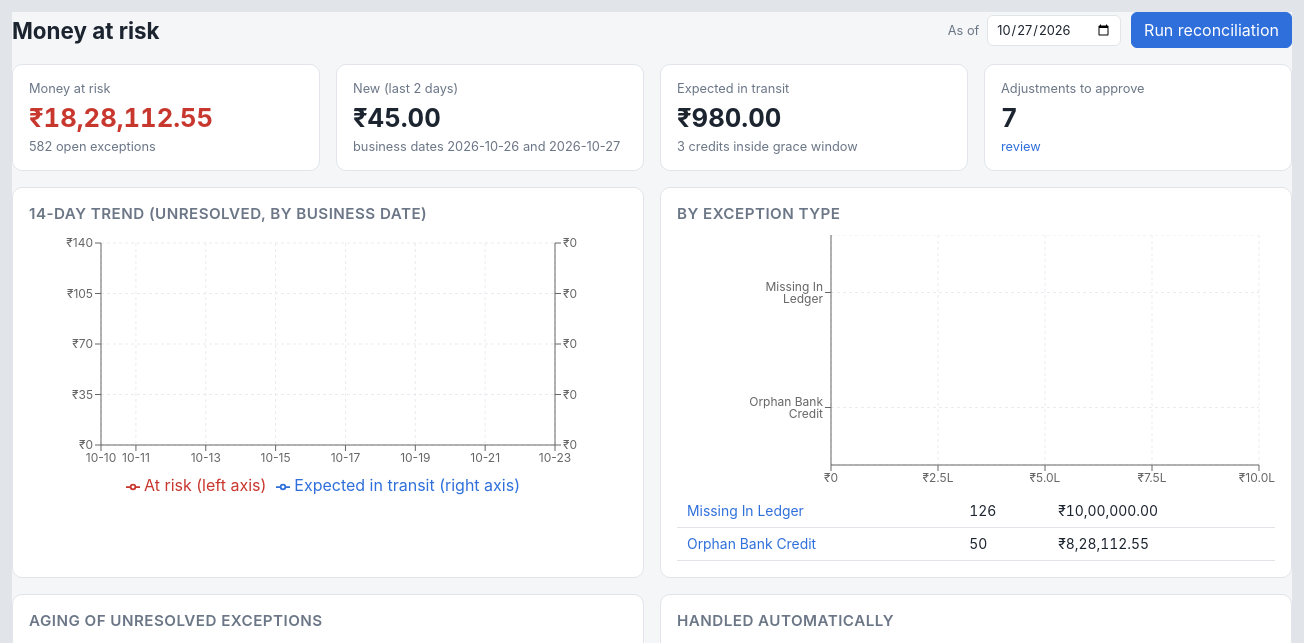
Test: DashboardPage › lets a supervisor run reconciliation and reloads the figures
Click the button "Run reconciliation" at (1212, 30), box left=1131, top=12, right=1292, bottom=48
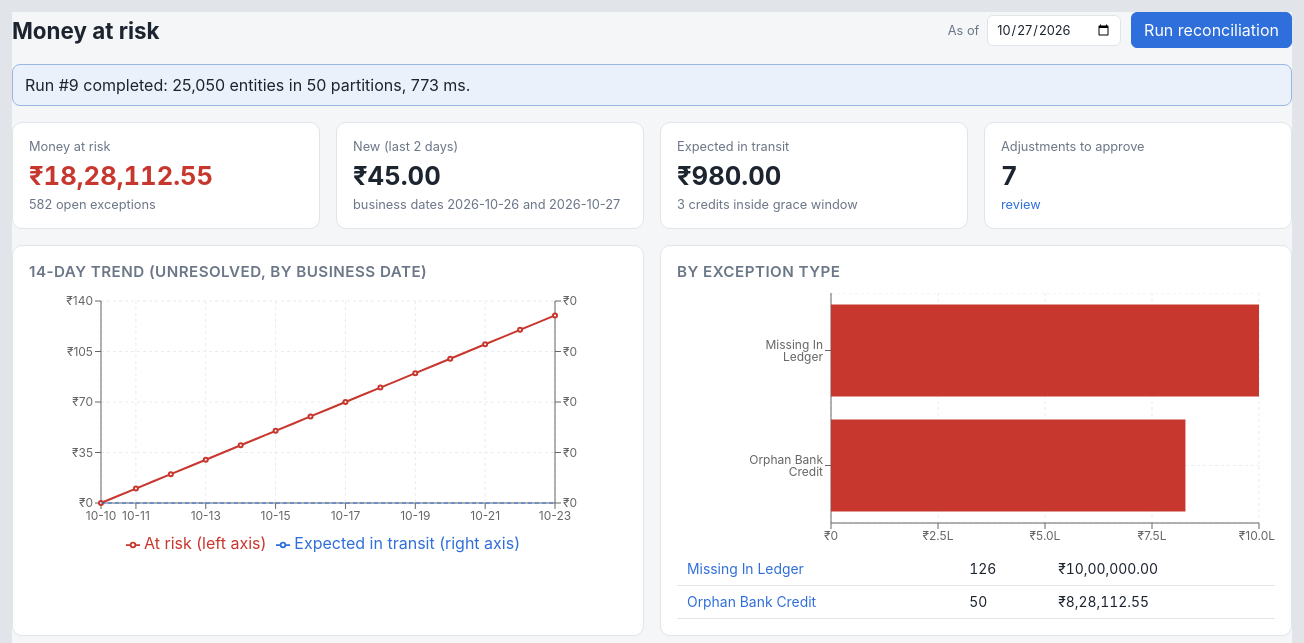
Now the message reads "Run #9 completed: 25,050 entities in 50 partitions, 773 ms.", box left=12, top=64, right=1292, bottom=106
